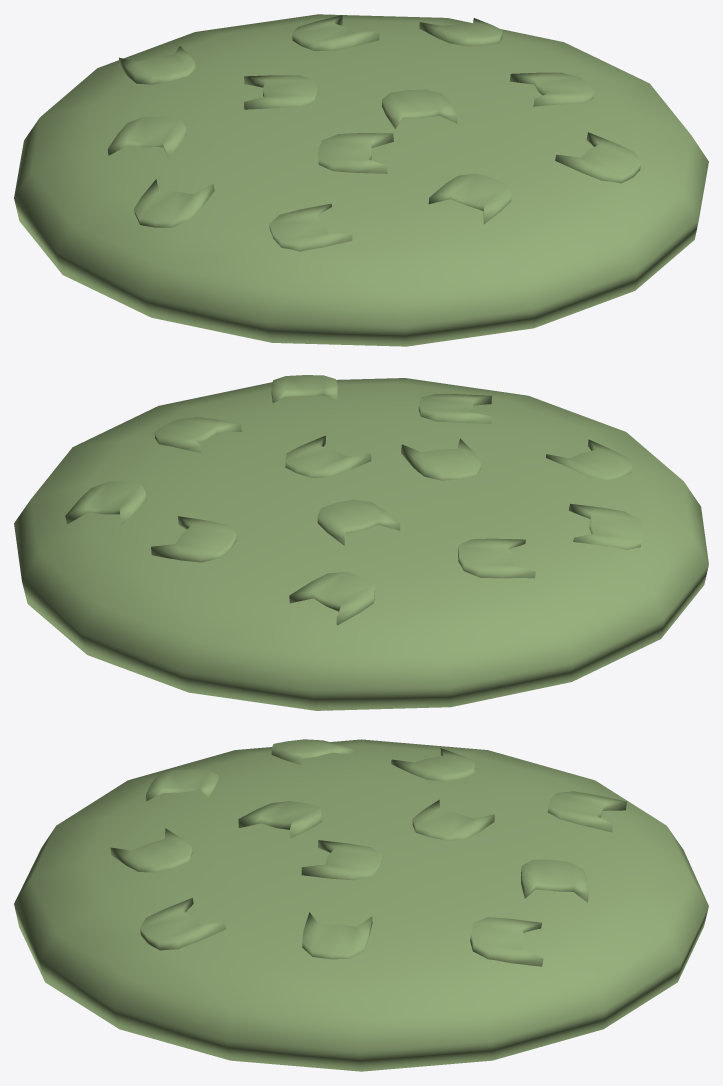
The model's file is PROPS_GOODS_COOKIE_MODEL.fbx.
The picture shows the model from 3 angles, top to bottom: view 1: azimuth 30°, elevation 25°; view 2: azimuth 150°, elevation 25°; view 3: azimuth 270°, elevation 25°; orthographic projection.
Visible parts, largest first — view 1: PROPS_GOODS_COOKIE_MODEL; view 2: PROPS_GOODS_COOKIE_MODEL; view 3: PROPS_GOODS_COOKIE_MODEL.
Part boxes in pixels (box(x1,y1,x2,y2)): PROPS_GOODS_COOKIE_MODEL: box(14, 14, 708, 346); PROPS_GOODS_COOKIE_MODEL: box(14, 375, 708, 710); PROPS_GOODS_COOKIE_MODEL: box(14, 739, 708, 1071).
Size of the model in its own units: 12.39 by 1.88 by 12.39.
